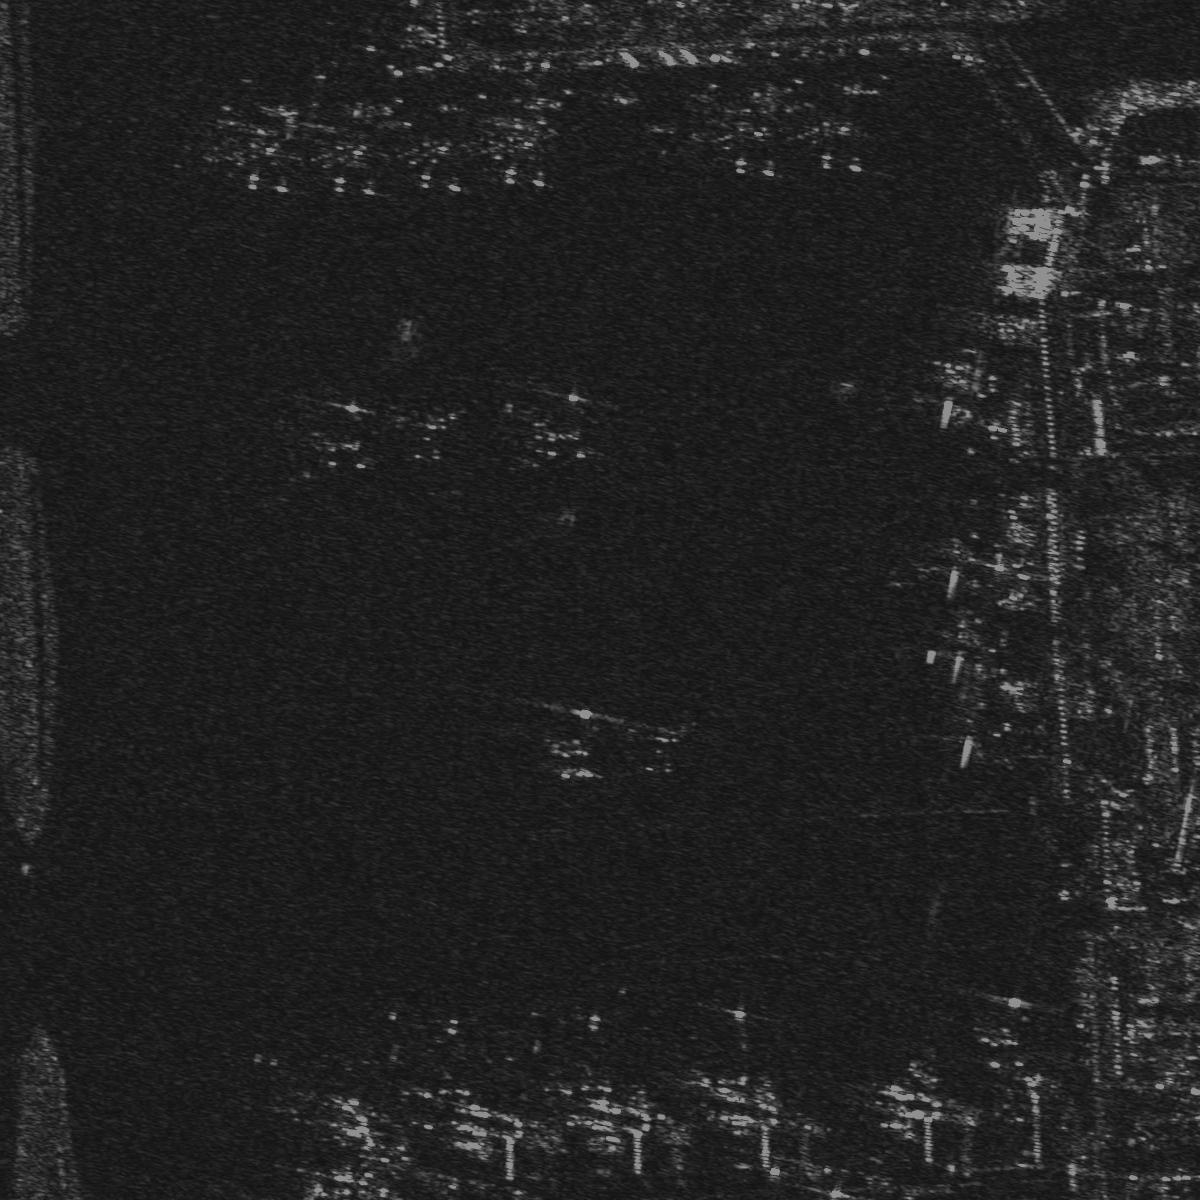A220: (965, 989, 1056, 1085), (627, 715, 693, 776)
A320/321: (232, 102, 304, 195)
ARJ21: (709, 92, 775, 179)
Boeing737: (789, 81, 880, 176), (307, 105, 391, 196), (397, 102, 476, 193)
other: (516, 695, 626, 788), (505, 379, 604, 464), (479, 96, 562, 191), (296, 392, 376, 475), (393, 395, 479, 468)
